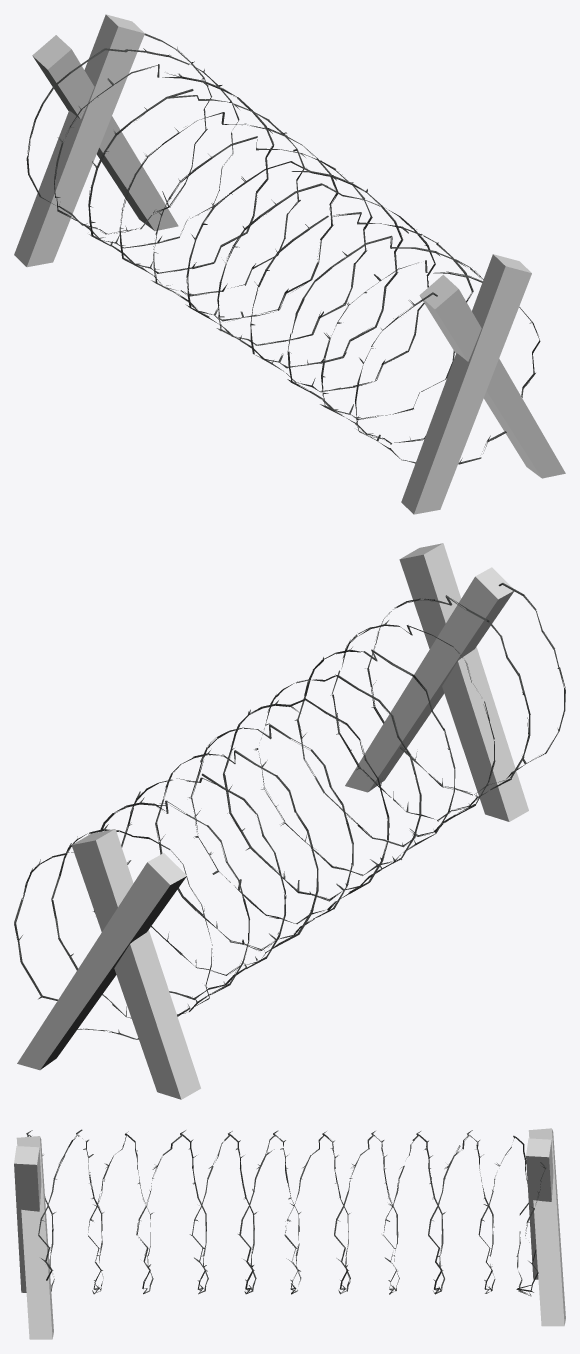
The model's file is wire_x.glb.
3 renders of one model, top to bottom at view 1: azimuth 30°, elevation 25°; view 2: azimuth 150°, elevation 25°; view 3: azimuth 270°, elevation 25°, orthographic. The views are drawn at different scales.
Visible parts, largest first — view 1: barbed wire 01; view 2: barbed wire 01; view 3: barbed wire 01.
Boxes of the visible parts, left/top/right/bottom form: barbed wire 01: left=14, top=14, right=565, bottom=514; barbed wire 01: left=14, top=543, right=565, bottom=1099; barbed wire 01: left=14, top=1128, right=565, bottom=1339.
Size of the model in its own units: 1.29 by 1.4 by 4.14.
Materials: 2 (1 with a texture image).
